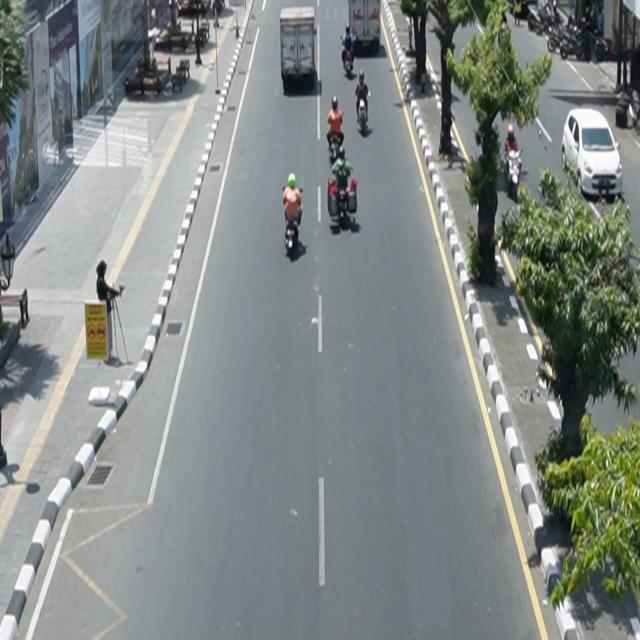bus: (280, 6, 317, 93)
car: (562, 108, 624, 203)
truck: (349, 1, 382, 56)
